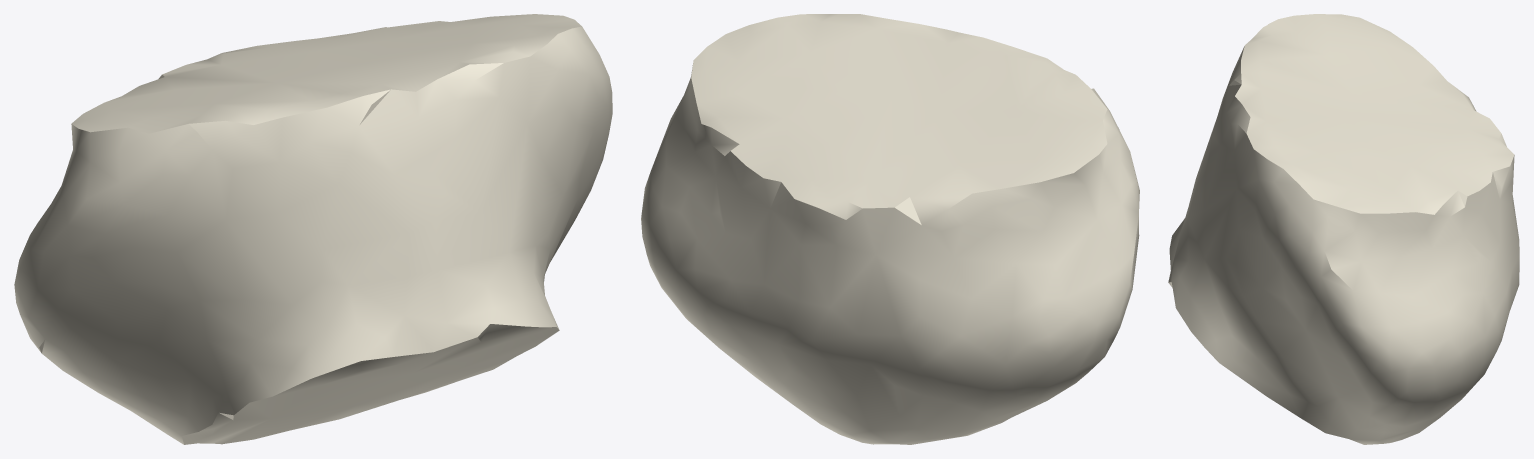
The model's file is fma35496_mm1599.glb.
The picture shows the model from 3 angles, left to right: view 1: azimuth 30°, elevation 25°; view 2: azimuth 150°, elevation 25°; view 3: azimuth 270°, elevation 25°; orthographic projection. The views are drawn at different scales.
Visible parts, largest first — view 1: FMA35496_MM1599; view 2: FMA35496_MM1599; view 3: FMA35496_MM1599.
Part boxes in pixels (left/top/right/bottom): FMA35496_MM1599: left=14, top=14, right=612, bottom=444; FMA35496_MM1599: left=641, top=14, right=1139, bottom=444; FMA35496_MM1599: left=1168, top=14, right=1519, bottom=444.
Size of the model in its own units: 0.0163 by 0.0114 by 0.0107.
